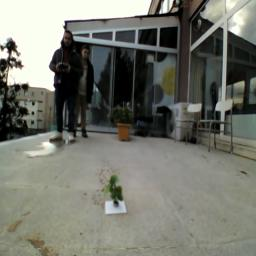herb: (104, 175, 125, 208)
